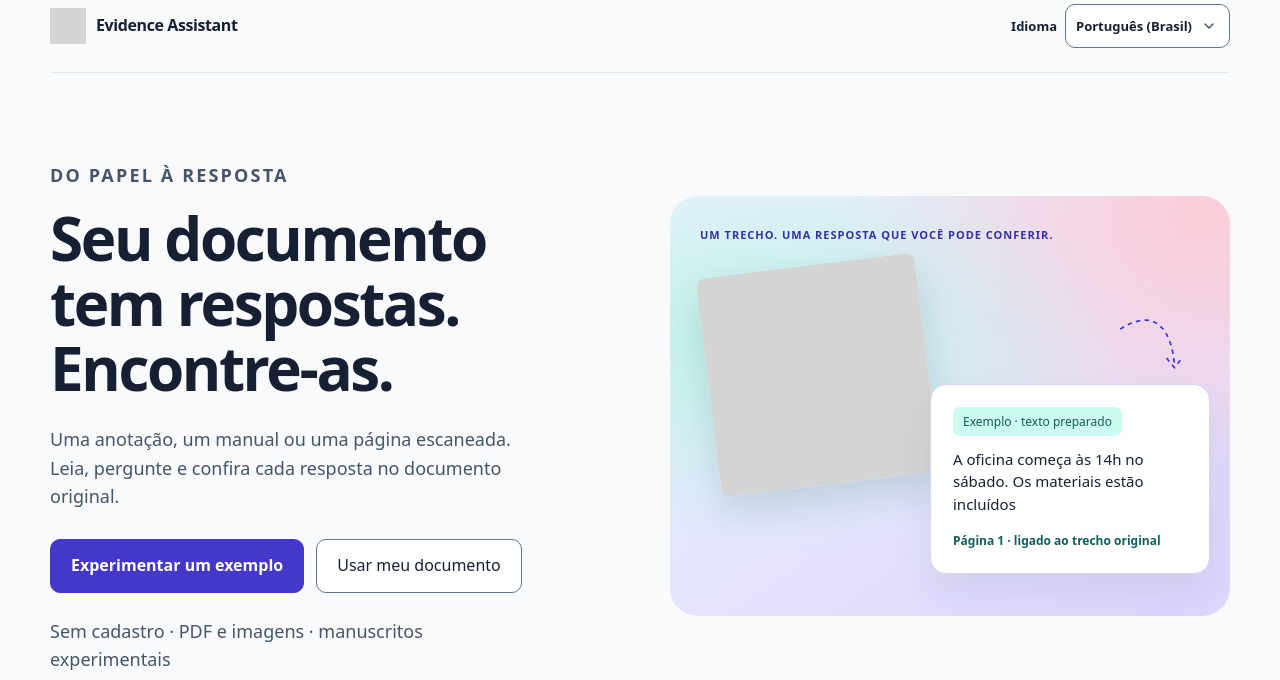
Scenario: keeps a correction draft while consulting the original
Click the button "Experimentar um exemplo" at (177, 566), box [50, 539, 304, 593]
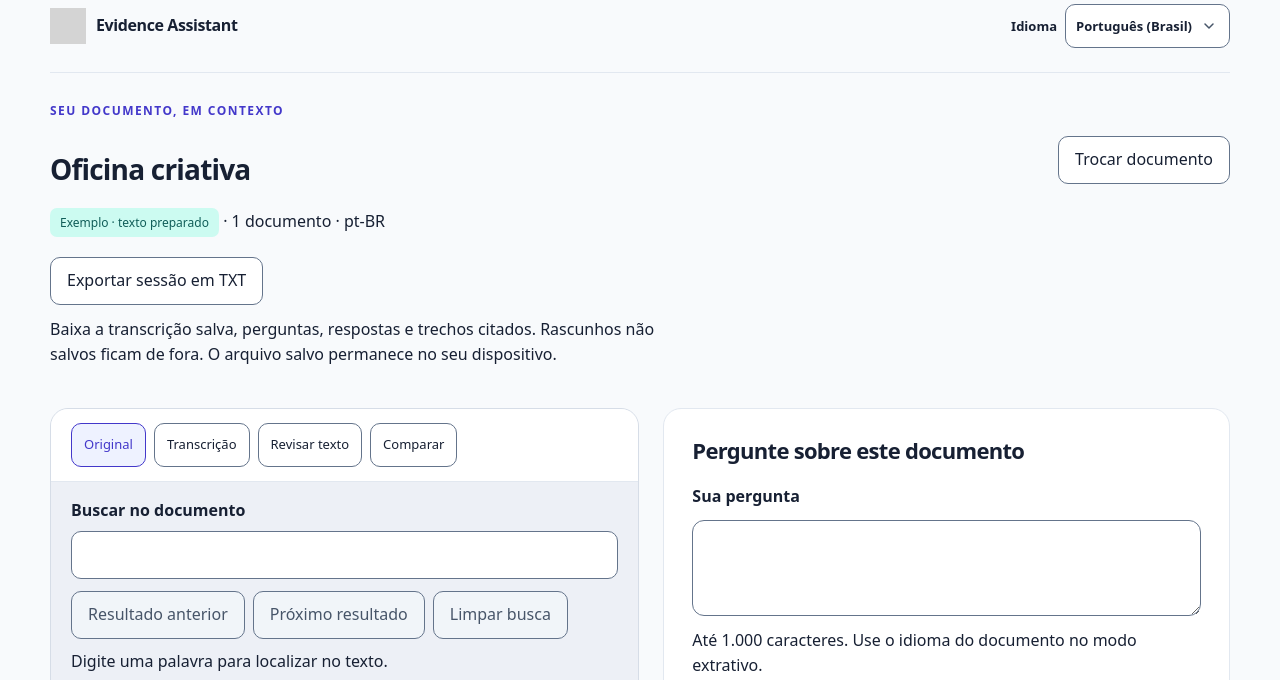
Click the button "Revisar texto" at (310, 445), box [258, 423, 362, 467]
(page scrolled)
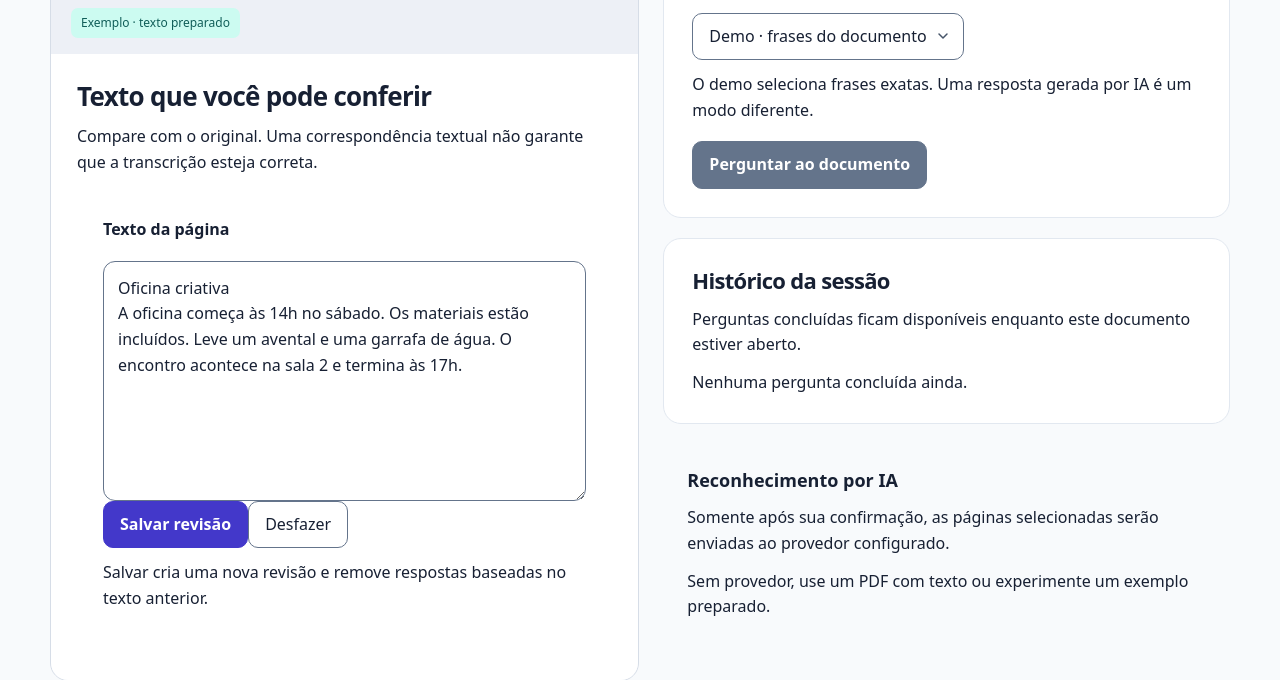
Replace the text in the text box labelled "Texto da página" with "Correção ainda não salva" at (345, 381), box [103, 261, 586, 501]
(page scrolled)
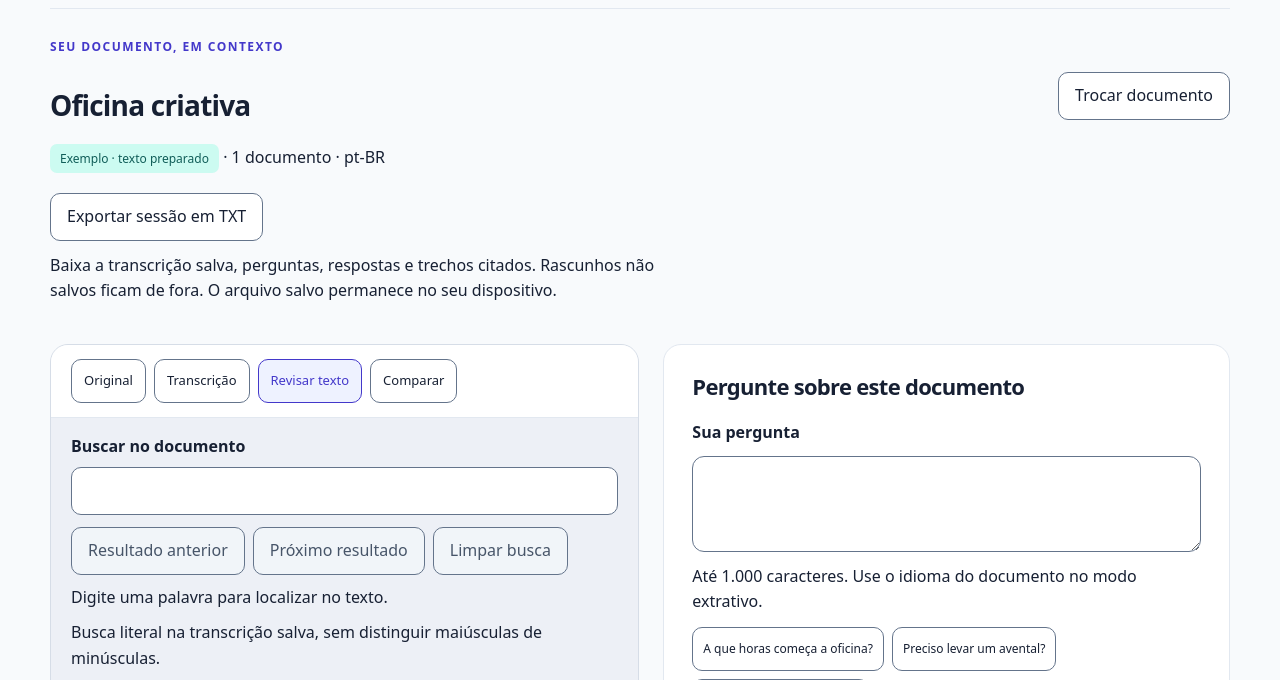
Click the button "Original" at (108, 381), box [71, 359, 146, 403]
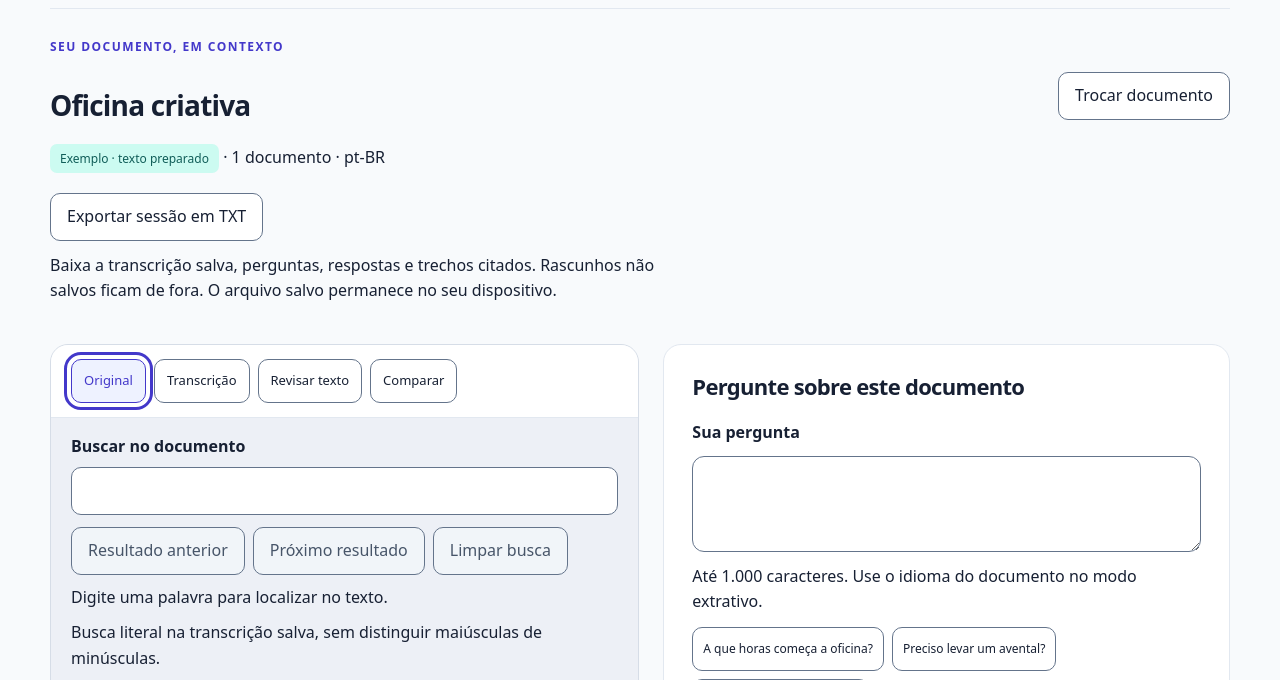
Click the button "Revisar texto" at (310, 381), box [258, 359, 362, 403]
(page scrolled)
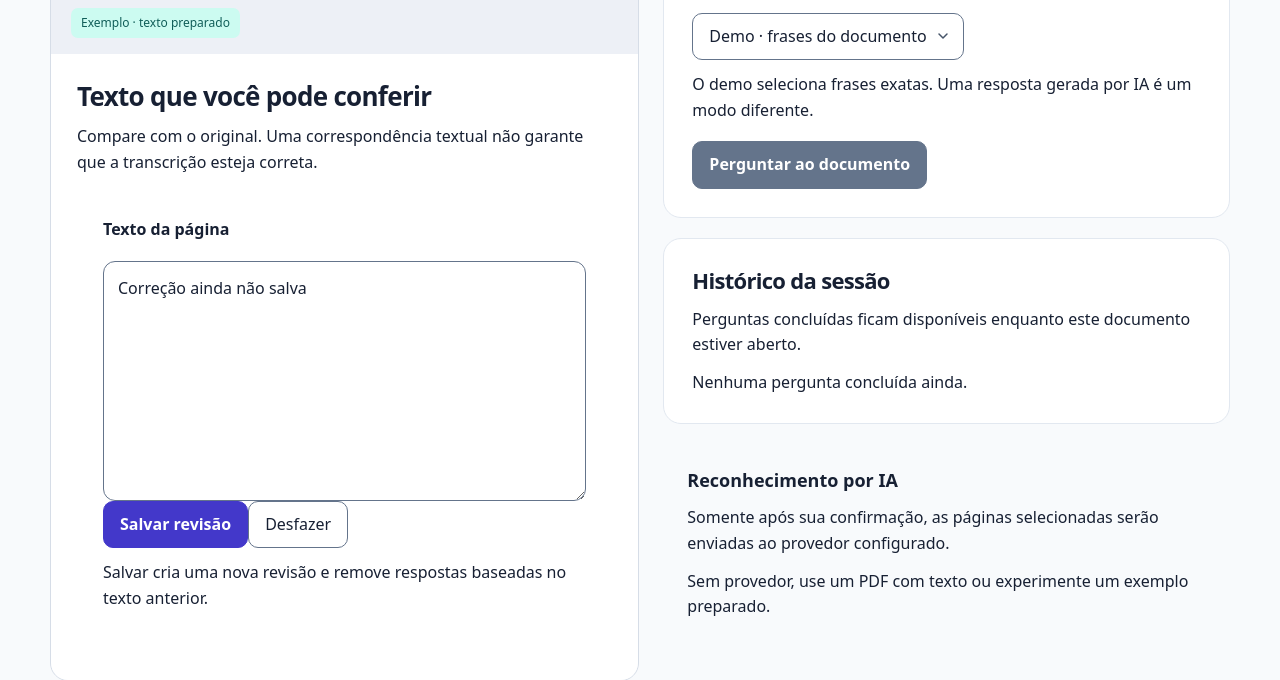
Now the text box labelled "Texto da página" holds "Correção ainda não salva", box [103, 261, 586, 501]
